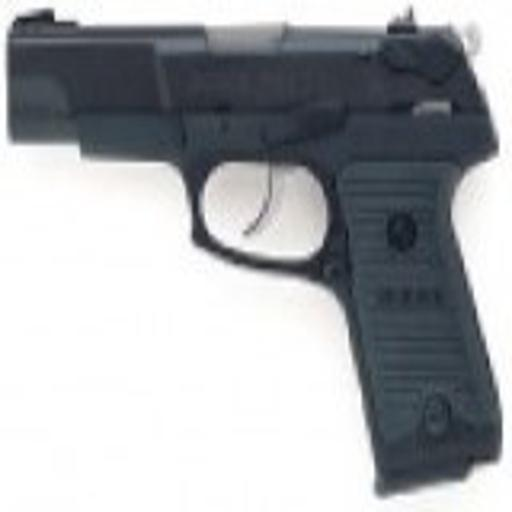Handgun: (5, 11, 511, 506)
